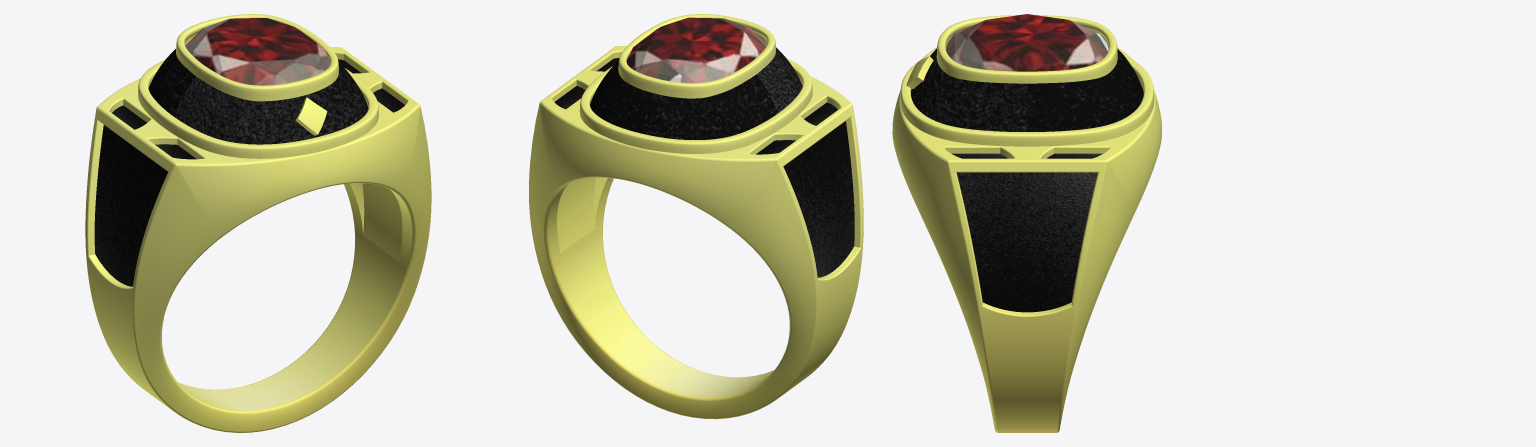
Rendered from ring44.glb.
3 renders of one model, left to right at view 1: azimuth 30°, elevation 25°; view 2: azimuth 150°, elevation 25°; view 3: azimuth 270°, elevation 25°, orthographic. The views are drawn at different scales.
Parts seen in each view (by area): view 1: body, black, core; view 2: body, black, core; view 3: body, black, core.
Boxes of the visible parts, x1,y1,x2,y2 form: body: (85, 14, 431, 432); black: (94, 49, 404, 286); core: (185, 18, 330, 85); body: (529, 14, 863, 419); black: (554, 47, 854, 277); core: (626, 17, 766, 83); body: (892, 15, 1161, 432); black: (911, 48, 1143, 312); core: (946, 14, 1108, 71).
Bounding box in the file's own units: 21.85 × 26.65 × 39.63.
Materials: 4 (4 with a texture image).
